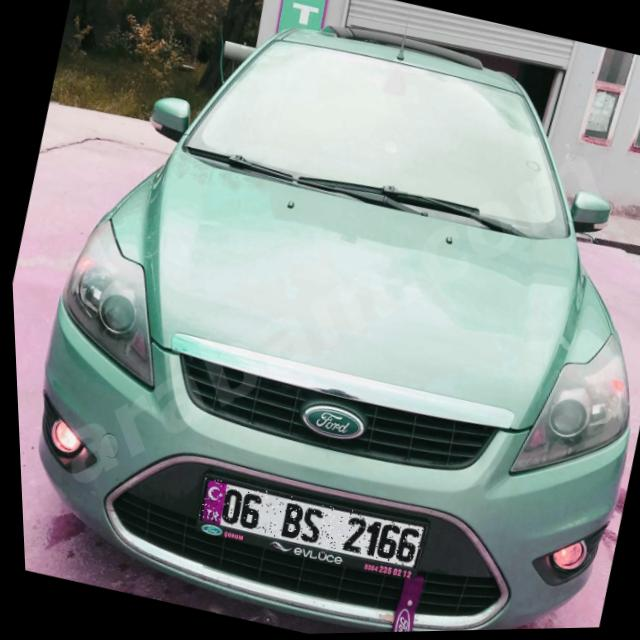license_plate: (190, 474, 421, 573)
